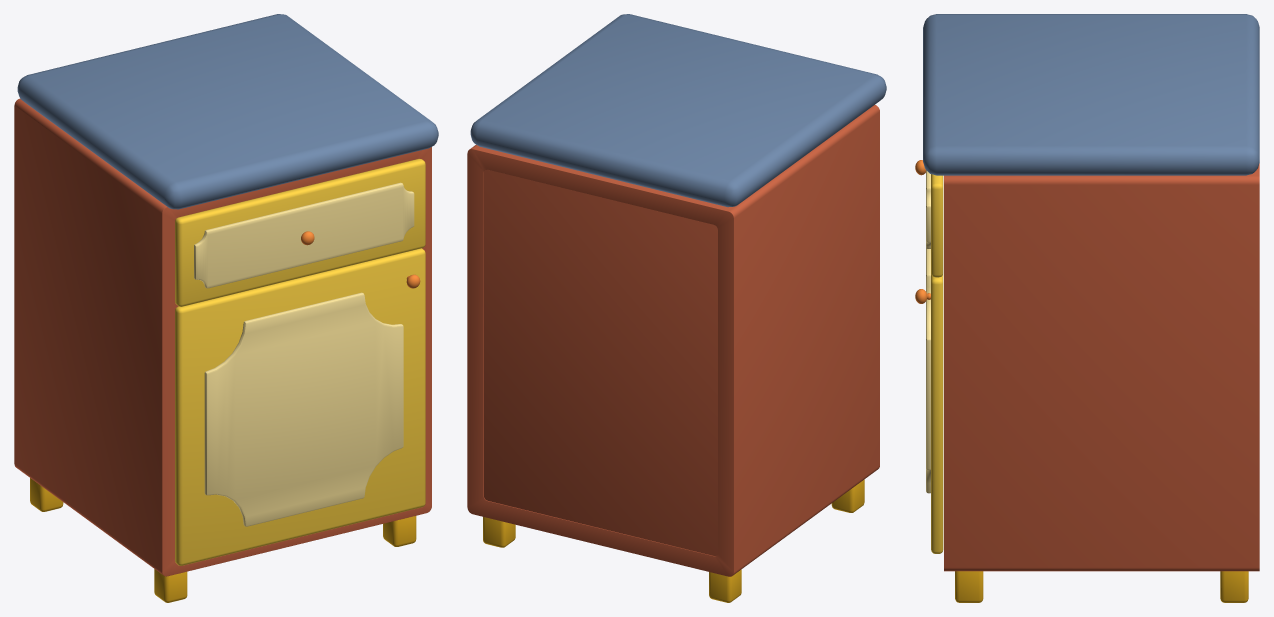
Rendered from armario_cozinha_base_gaveta_porta_classica.glb.
3 renders of one model, left to right at view 1: azimuth 30°, elevation 25°; view 2: azimuth 150°, elevation 25°; view 3: azimuth 270°, elevation 25°, orthographic. The views are drawn at different scales.
Parts seen in each view (by area): view 1: armario_cozinha_base_gaveta_porta_classica, porta_1, gaveta_1; view 2: armario_cozinha_base_gaveta_porta_classica; view 3: armario_cozinha_base_gaveta_porta_classica, porta_1, gaveta_1.
Boxes of the visible parts, bbox=[...] form: armario_cozinha_base_gaveta_porta_classica: bbox=[14, 14, 438, 602]; porta_1: bbox=[175, 248, 425, 565]; gaveta_1: bbox=[175, 158, 425, 306]; armario_cozinha_base_gaveta_porta_classica: bbox=[467, 14, 886, 602]; armario_cozinha_base_gaveta_porta_classica: bbox=[923, 14, 1259, 602]; porta_1: bbox=[915, 247, 943, 553]; gaveta_1: bbox=[915, 160, 943, 277].
Size of the model in its own units: 0.598 by 0.9 by 0.6131.
1 material, 1 textured.
